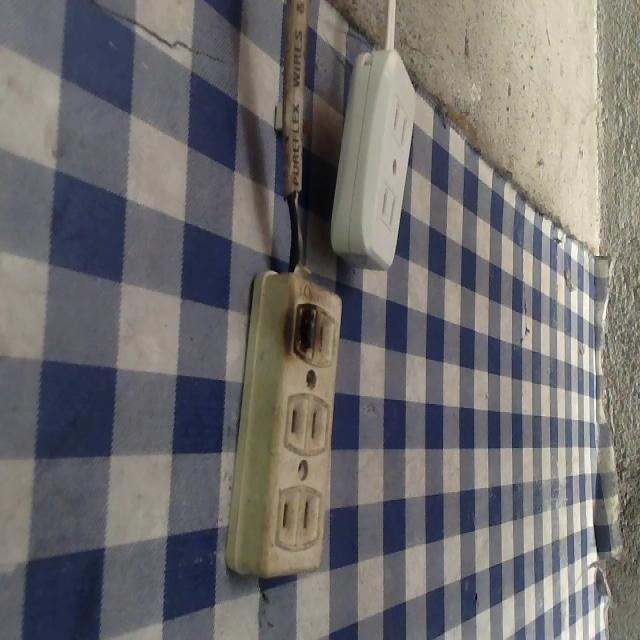-: (288, 294, 317, 362)
